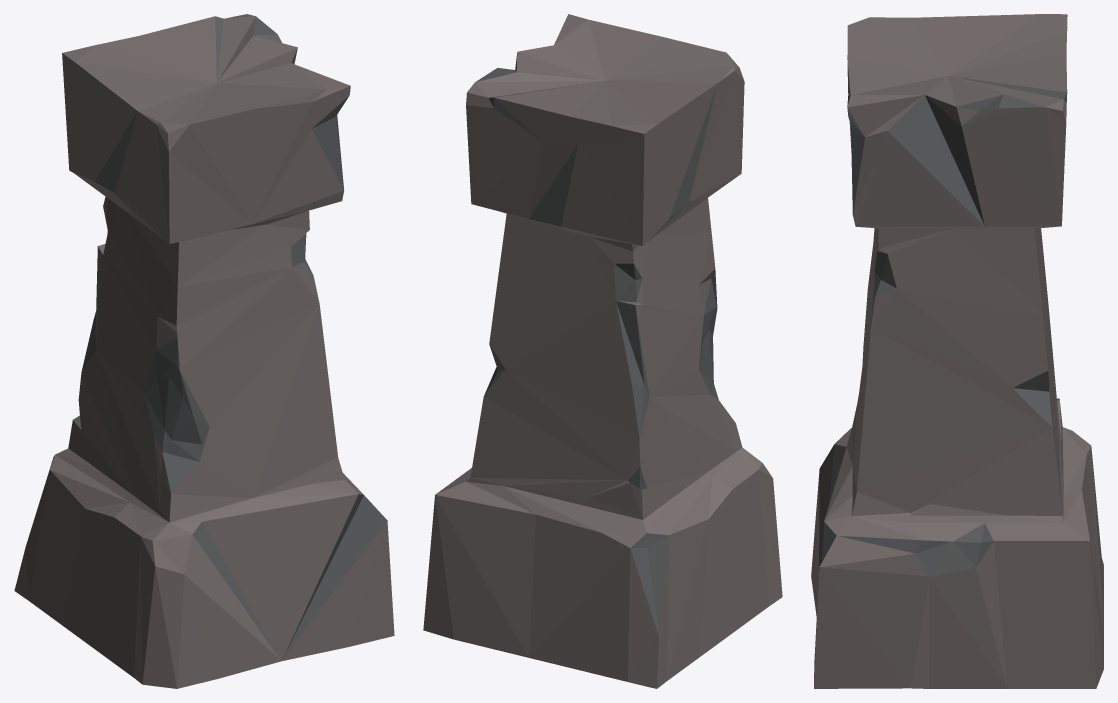
Rendered from Altar_02.FBX.
The picture shows the model from 3 angles, left to right: view 1: azimuth 30°, elevation 25°; view 2: azimuth 150°, elevation 25°; view 3: azimuth 270°, elevation 25°; orthographic projection. The views are drawn at different scales.
Visible parts, largest first — view 1: Altar_02; view 2: Altar_02; view 3: Altar_02.
Part boxes in pixels (<box>): Altar_02: <box>14,14,394,688</box>; Altar_02: <box>423,14,782,688</box>; Altar_02: <box>811,14,1103,688</box>.
Size of the model in its own units: 0.893 by 1.92 by 0.8939.
